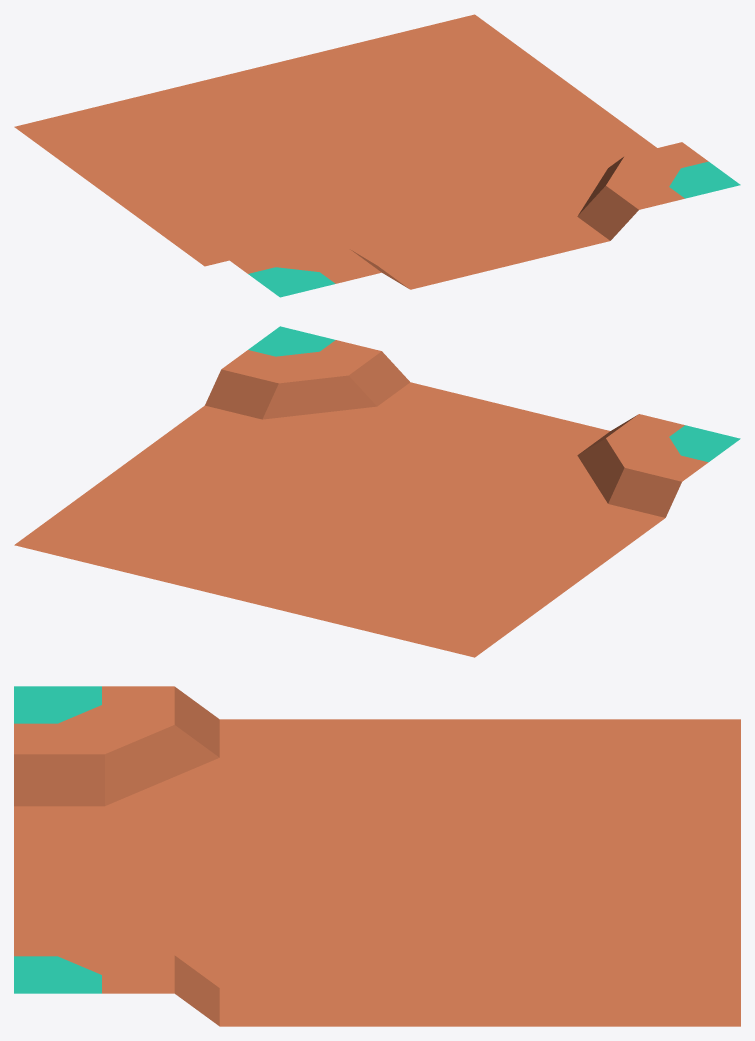
Rendered from ground_pathSideOpen.glb.
3 renders of one model, top to bottom at view 1: azimuth 30°, elevation 25°; view 2: azimuth 150°, elevation 25°; view 3: azimuth 270°, elevation 25°, orthographic. The views are drawn at different scales.
Visible parts, largest first — view 1: ground_pathSideOpen; view 2: ground_pathSideOpen; view 3: ground_pathSideOpen.
Part boxes in pixels (<box>): ground_pathSideOpen: <box>14,14,740,297</box>; ground_pathSideOpen: <box>14,326,740,657</box>; ground_pathSideOpen: <box>14,686,740,1026</box>.
Bounding box in the file's own units: 1 × 0.05 × 1.
